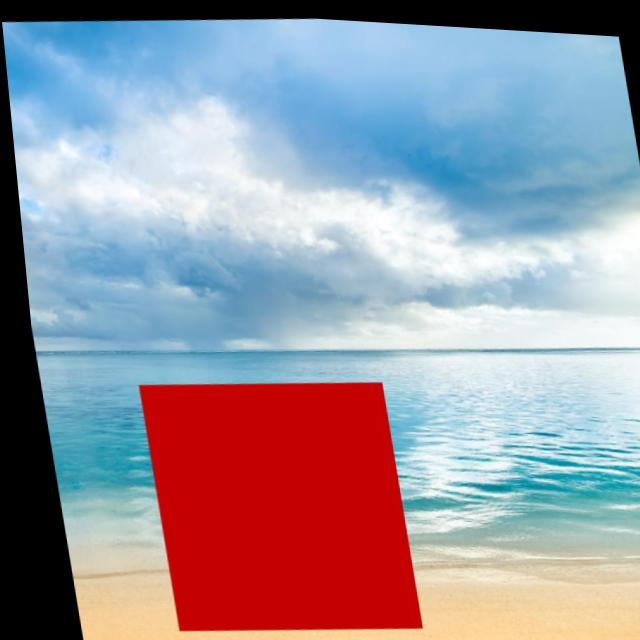RedSquare: (124, 359, 421, 640)
